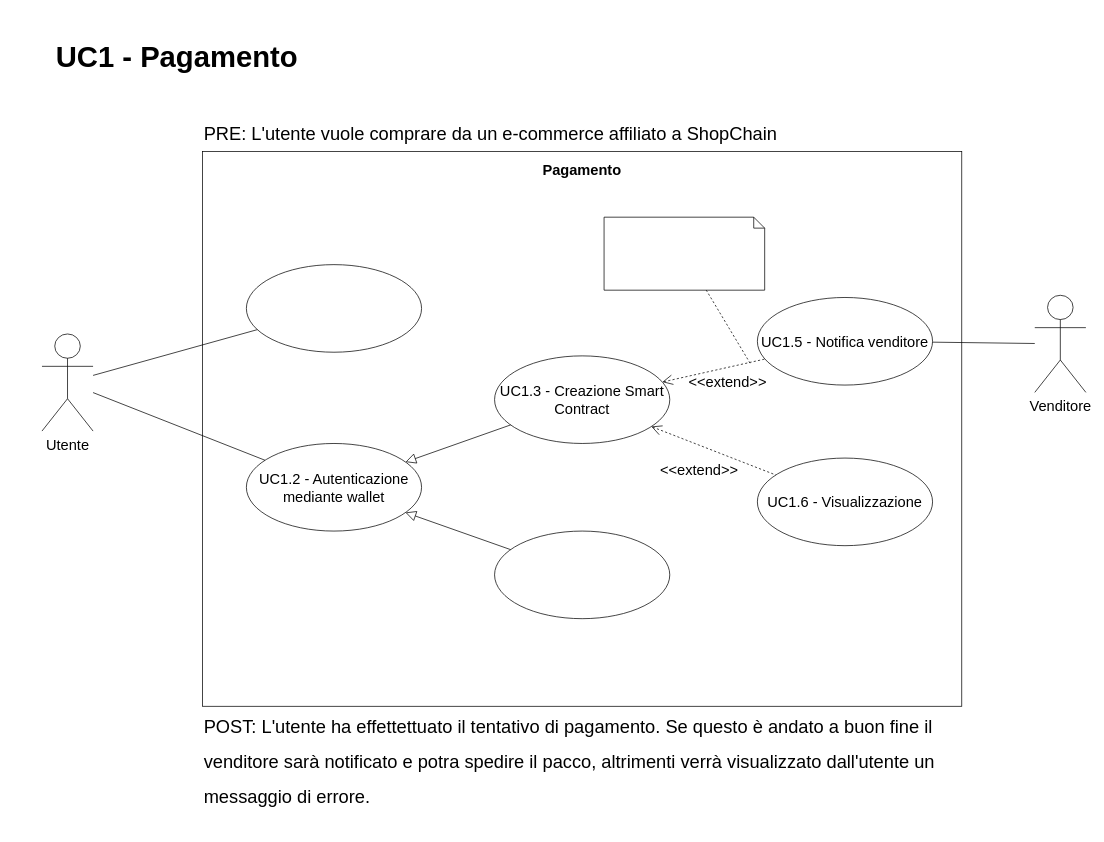
The diagram is 1104 pixels wide and 842 high, and some of its shapes have lost their labels. The box of each missing label's shape, as (x1, y1, x2, y2) in pixels:
Condition:{Il pagamento è andato a buon fine}: (603, 216, 765, 290)
UC1.1 - Selezione metodo di pagamento 'ShopChain': (246, 264, 422, 352)
UC1.4 - Trasferimento denaro su smart contract: (494, 530, 670, 619)
